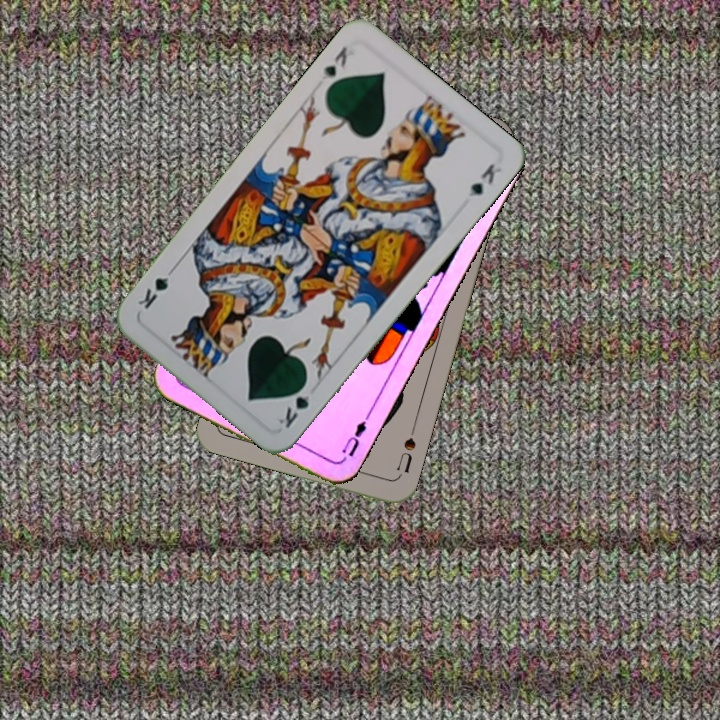EU: (337, 411, 372, 460)
GK: (272, 377, 314, 431), (317, 42, 350, 84)
SU: (392, 421, 419, 479)
